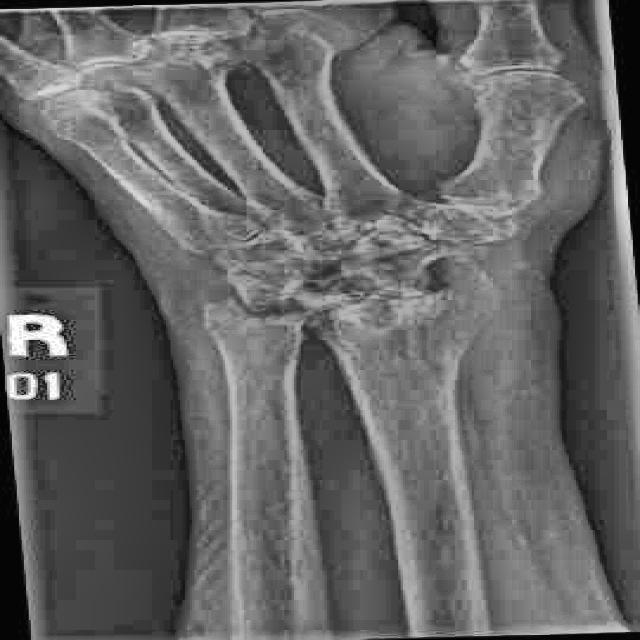wrist positive: (185, 293, 337, 340)
